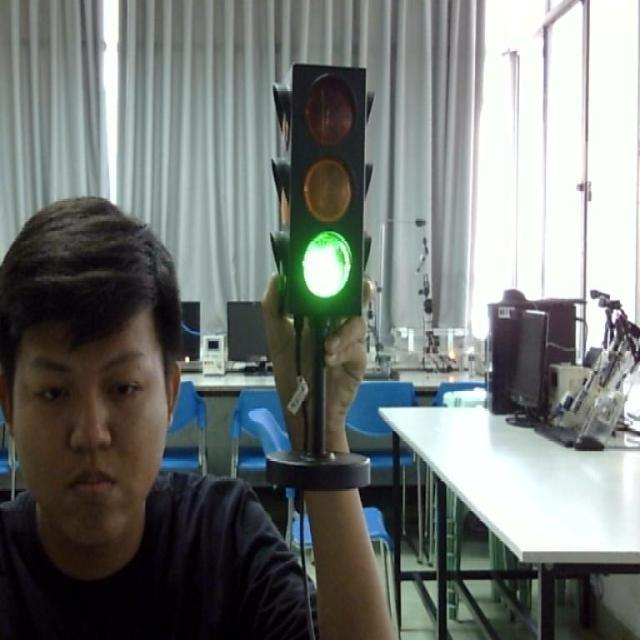green light: (295, 226, 367, 316)
